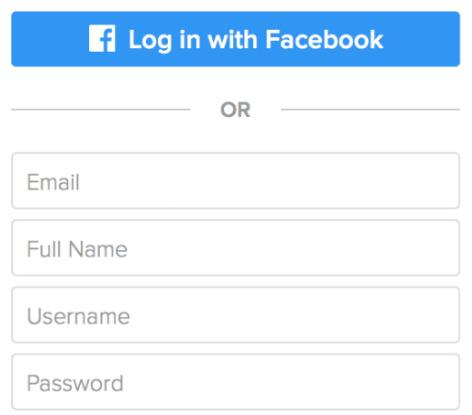button: (9, 9, 461, 68)
field: (9, 151, 461, 211), (10, 219, 462, 278), (10, 352, 462, 411), (10, 285, 461, 344)
